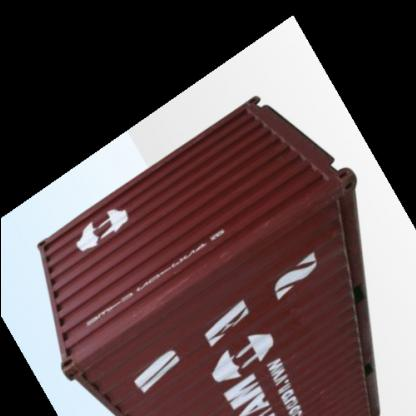Damage: (134, 273, 194, 322), (314, 208, 354, 264), (274, 292, 306, 336)
